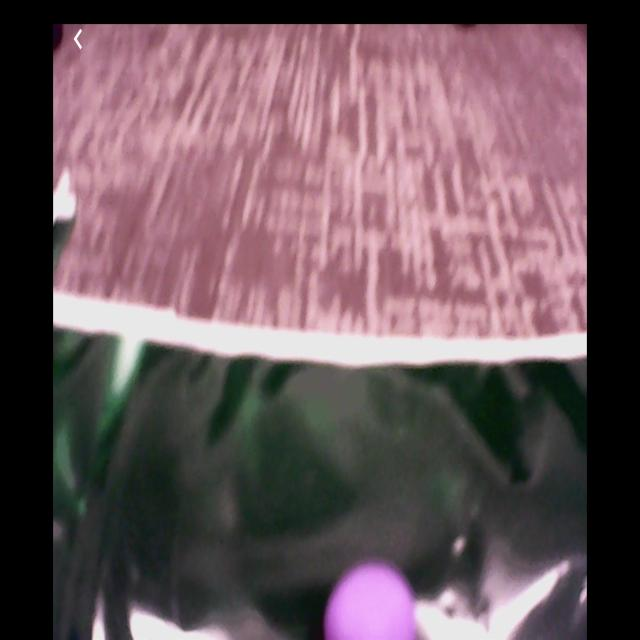ball: (324, 563, 420, 640)
